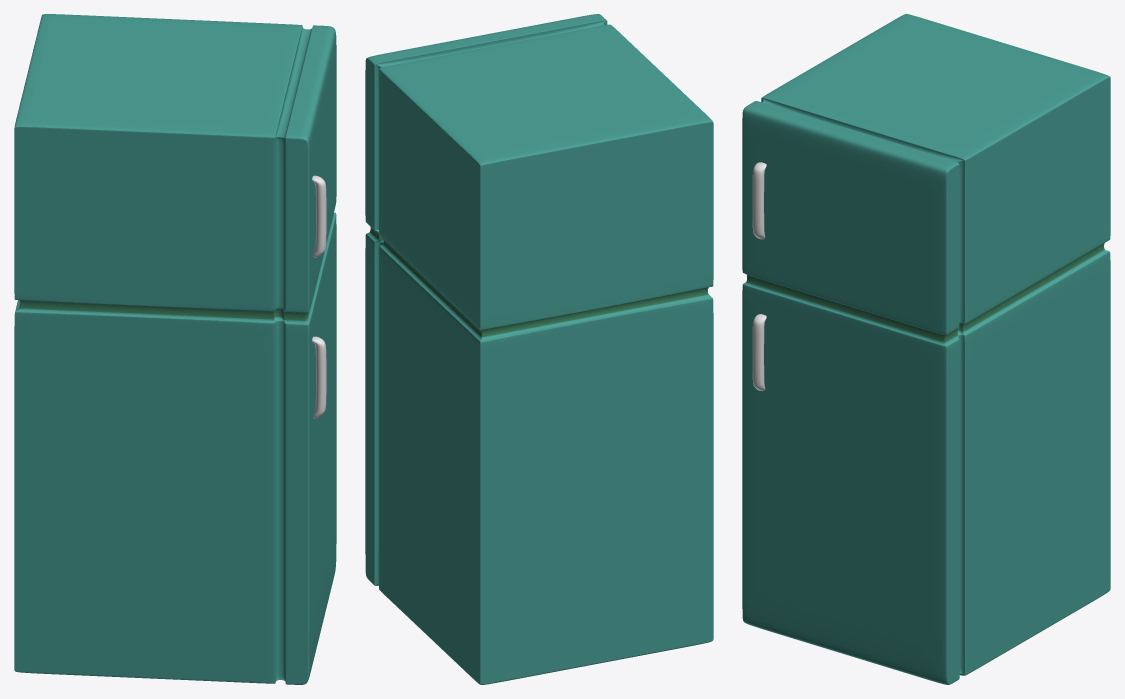
The model's file is stainless_fridge.glb.
3 views of the same model, side by side, from view 1: azimuth 30°, elevation 25°; view 2: azimuth 150°, elevation 25°; view 3: azimuth 270°, elevation 25° (orthographic). The views are drawn at different scales.
Parts seen in each view (by area): view 1: Object_8, Object_9, Object_4; view 2: Object_8, Object_9; view 3: Object_8, Object_9, Object_4.
Boxes of the visible parts, left/top/right/bottom form: Object_8: left=14, top=14, right=336, bottom=684; Object_9: left=20, top=301, right=309, bottom=320; Object_4: left=312, top=175, right=326, bottom=418; Object_8: left=365, top=14, right=713, bottom=684; Object_9: left=370, top=226, right=708, bottom=337; Object_8: left=742, top=14, right=1110, bottom=684; Object_9: left=746, top=243, right=1104, bottom=342; Object_4: left=752, top=162, right=766, bottom=390.
Bounding box in the file's own units: 4.09 × 6.25 × 4.02.
